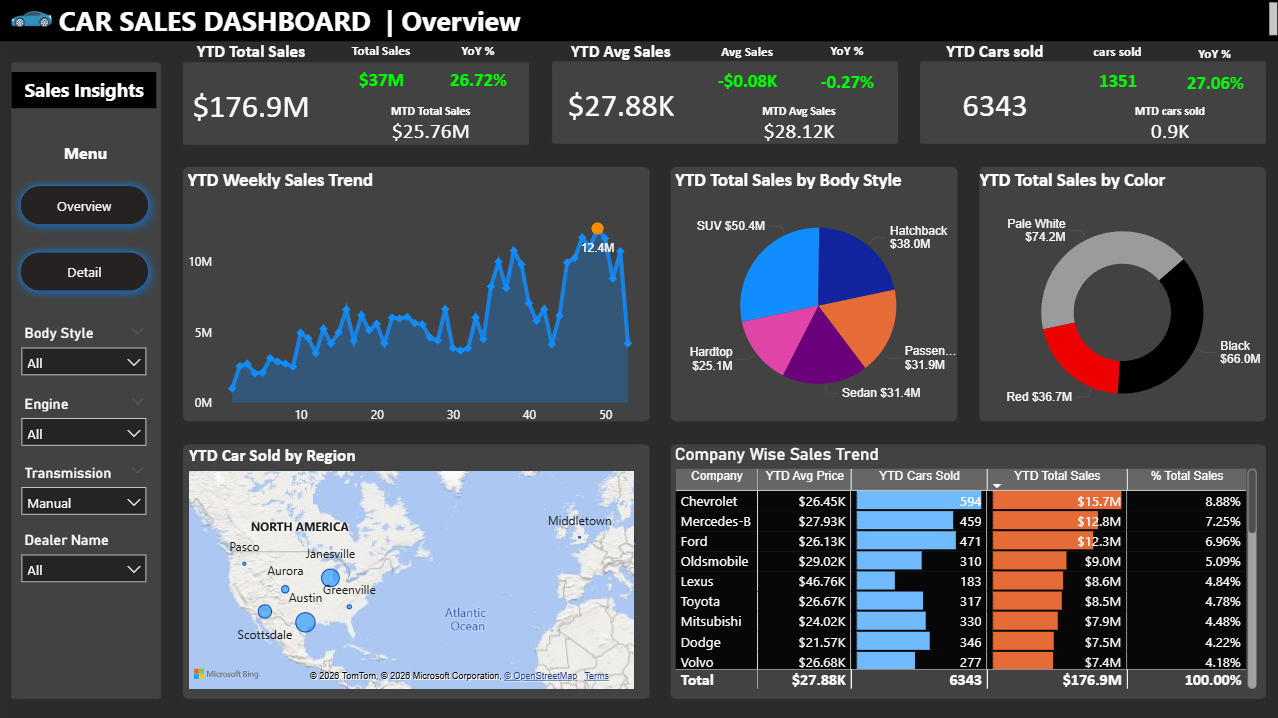

Layout of this report page (visuals, bound fields, positions):
{"tool":"powerbi","page":{"name":"Overview","canvas":[1280,720],"ordinal":0},"visuals":[{"type":"card","title":"YTD Total Sales","fields":{"Values":["_Measures.YTD Total Sales"]},"box":[171,43.6,166,105.6],"z":0},{"type":"card","title":"Total Sales","fields":{"Values":["_Measures.Sales Difference"]},"box":[337.7,45.4,93.9,59.1],"z":1000},{"type":"card","title":"MTD Total Sales","fields":{"Values":["_Measures.MTD Total Sales"]},"box":[337.7,106,192.3,43.9],"z":2000},{"type":"card","title":"YoY %","fields":{"Values":["_Measures.YOY_calculate"]},"box":[431.5,45.4,98.4,60.6],"z":3000},{"type":"card","title":"YTD Avg Sales","fields":{"Values":["_Measures.Avg YTD Price"]},"box":[545,43.6,155.9,104],"z":4000},{"type":"card","title":"MTD Avg Sales","fields":{"Values":["_Measures.Avg MTD"]},"box":[701.1,106,196.8,43.9],"z":5000},{"type":"card","title":"Avg Sales","fields":{"Values":["_Measures.Avg Sales diff_Show"]},"box":[701.1,46.9,93.9,59.1],"z":6000},{"type":"card","title":"YoY %","fields":{"Values":["_Measures.Avg YOY%"]},"box":[798,45.4,98.4,63.6],"z":7000},{"type":"card","title":"YTD Cars sold ","fields":{"Values":["_Measures.car sale YTD"]},"box":[918.9,43.6,150.9,104],"z":8000},{"type":"card","title":"cars sold","fields":{"Values":["_Measures.sales_coar_count_difference"]},"box":[1069.1,46,93.8,58],"z":9000},{"type":"card","title":"MTD cars sold","fields":{"Values":["_Measures.car sales MTD"]},"box":[1069.1,105.7,197.8,44.3],"z":10000},{"type":"card","title":"YoY %","fields":{"Values":["_Measures.cars sold yoy%"]},"box":[1162.9,47.7,98.9,59.7],"z":11000},{"type":"areaChart","title":"YTD  Weekly Sales Trend","fields":{"Category":["calendar table.Week"],"Y":["Sum(car_data.Price ($))","_Measures.maxx sales Area Chart"]},"box":[187.1,170,472.9,262.9],"z":12000},{"type":"pieChart","fields":{"Category":["car_data.Body Style"],"Y":["_Measures.YTD Total Sales"]},"box":[671.4,170,294.3,250],"z":13000},{"type":"donutChart","fields":{"Y":["_Measures.YTD Total Sales"],"Category":["car_data.Color"]},"box":[974.3,169.4,293.4,263.3],"z":14000},{"type":"map","title":"YTD Car Sold by Region","fields":{"Category":["car_data.Dealer_Region"],"Size":["_Measures.car sale YTD"]},"box":[187.8,444.4,452.8,248.2],"z":15000},{"type":"tableEx","title":"Company Wise Sales Trend","fields":{"Values":["car_data.Company","_Measures.Avg YTD Price","_Measures.car sale YTD","_Measures.YTD Total Sales","Divide(_Measures.YTD Total Sales, ScopedEval(_Measures.YTD Total Sales, []))"]},"box":[671.4,444.3,588.6,248.6],"z":16000},{"type":"textbox","box":[0,0,1280,44.3],"z":17000},{"type":"slicer","fields":{"Values":["car_data.Body Style"]},"box":[15.7,321.4,144.3,55.7],"z":18000},{"type":"slicer","fields":{"Values":["car_data.Engine"]},"box":[15.7,391.4,144.3,55.7],"z":19000},{"type":"slicer","fields":{"Values":["car_data.Transmission"]},"box":[15.7,460,144.3,55.7],"z":20000},{"type":"slicer","fields":{"Values":["car_data.Dealer_Name"]},"box":[17.1,527.1,144.3,55.7],"z":21000},{"type":"textbox","box":[17.1,74.3,144.3,35.7],"z":22000},{"type":"pageNavigator","box":[17.1,178.6,145.7,122.9],"z":23000},{"type":"textbox","box":[15.7,138.6,147.1,31.4],"z":24000},{"type":"image","box":[15.7,0,40,44.3],"z":25000}]}

Visuals, with their boxes in screenshot pixels (x1, y1, x2, y2), scaled from the page's 1280x720 canvas onto the 1278x718 screenshot:
"YTD Total Sales" card: 171:43:336:149
"Total Sales" card: 337:45:431:104
"MTD Total Sales" card: 337:106:529:149
"YoY %" card: 431:45:529:106
"YTD Avg Sales" card: 544:43:700:147
"MTD Avg Sales" card: 700:106:896:149
"Avg Sales" card: 700:47:794:106
"YoY %" card: 797:45:895:109
"YTD Cars sold " card: 917:43:1068:147
"cars sold" card: 1067:46:1161:104
"MTD cars sold" card: 1067:105:1265:150
"YoY %" card: 1161:48:1260:107
"YTD  Weekly Sales Trend" areaChart: 187:170:659:432
pieChart - car_data.Body Style x _Measures.YTD Total Sales: 670:170:964:419
donutChart - _Measures.YTD Total Sales x car_data.Color: 973:169:1266:431
"YTD Car Sold by Region" map: 188:443:640:691
"Company Wise Sales Trend" tableEx: 670:443:1258:691
textbox: 0:0:1277:44
slicer - car_data.Body Style: 16:321:160:376
slicer - car_data.Engine: 16:390:160:446
slicer - car_data.Transmission: 16:459:160:514
slicer - car_data.Dealer_Name: 17:526:161:581
textbox: 17:74:161:110
pageNavigator: 17:178:163:301
textbox: 16:138:163:170
image: 16:0:56:44
